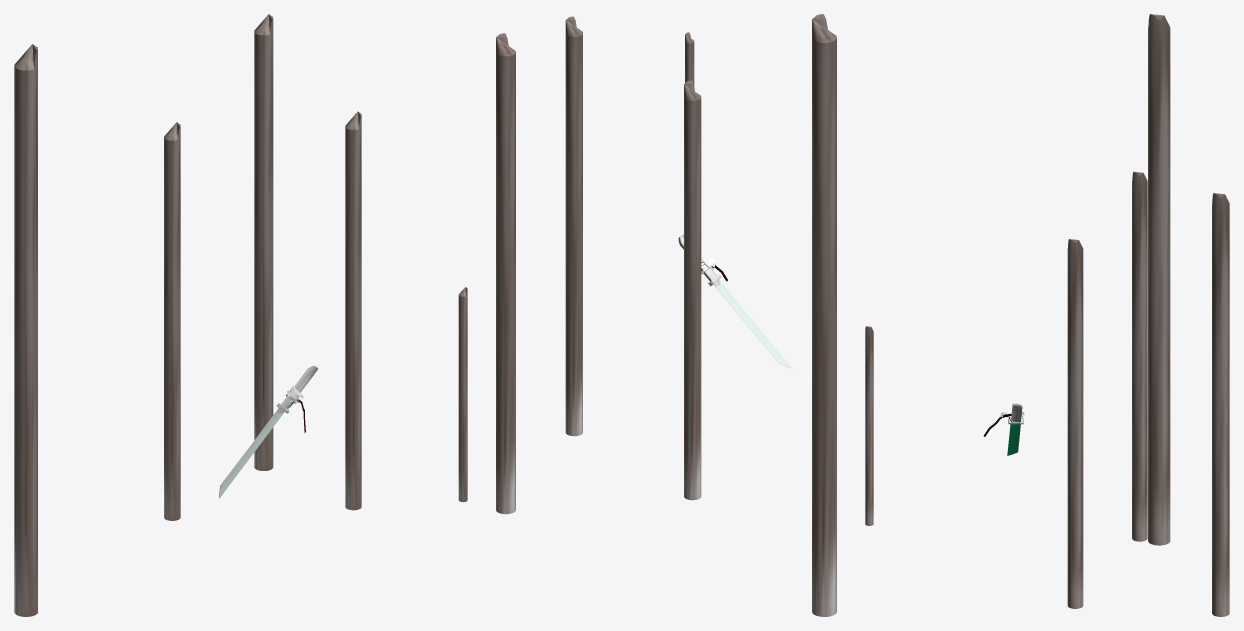
3 renders of one model, left to right at view 1: azimuth 30°, elevation 25°; view 2: azimuth 150°, elevation 25°; view 3: azimuth 270°, elevation 25°, orthographic. The views are drawn at different scales.
Parts seen in each view (by area): view 1: Cylinder.007_Cylinder.019, dagger_Cube.005; view 2: Cylinder.007_Cylinder.019, dagger_Cube.005; view 3: Cylinder.007_Cylinder.019, dagger_Cube.005.
Boxes of the visible parts, box(x1,y1,x2,y2) form: Cylinder.007_Cylinder.019: box(14, 14, 467, 616); dagger_Cube.005: box(219, 365, 318, 498); Cylinder.007_Cylinder.019: box(496, 14, 836, 616); dagger_Cube.005: box(678, 235, 791, 368); Cylinder.007_Cylinder.019: box(865, 14, 1229, 616); dagger_Cube.005: box(1007, 403, 1023, 455).
Size of the model in its own units: 4.83 by 8.68 by 5.41.
